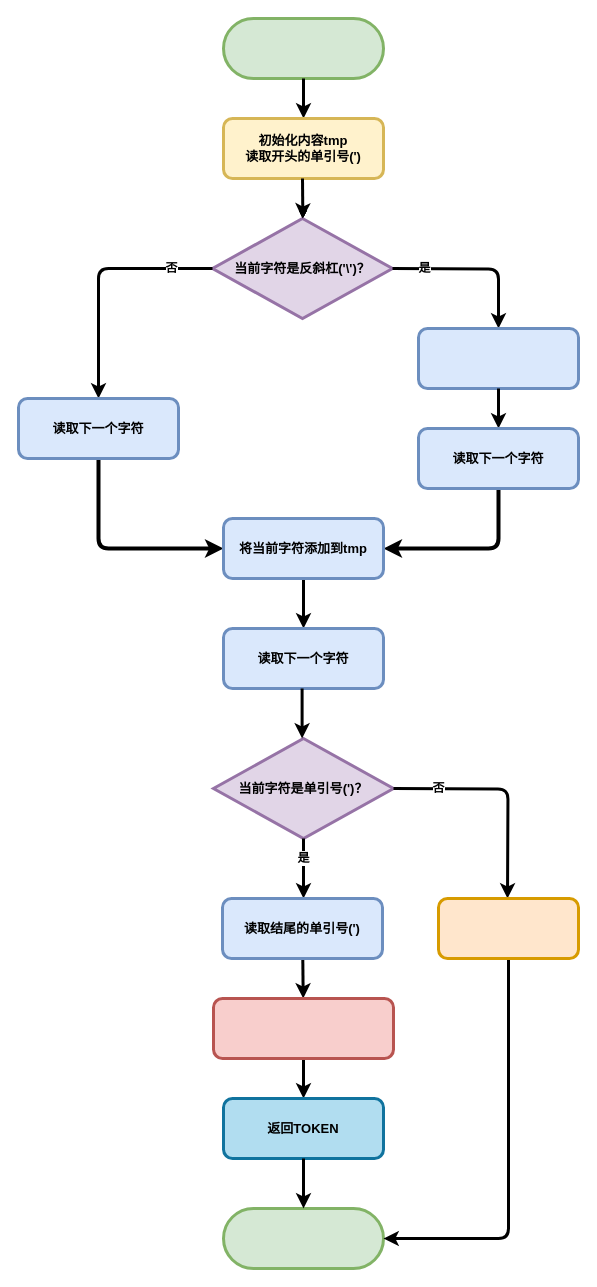
Image size: 597x1287. Some labels were removed from this diagram. The shapes that lost their labels are listed below. From the top down, each one's centre as x and y in pixels, then its label:
At point (303, 48): "开始".
At point (498, 358): "将反斜杠添加到tmp".
At point (508, 928): "抛出错误".
At point (303, 1028): "识别为关键字".
At point (303, 1238): "结束".
